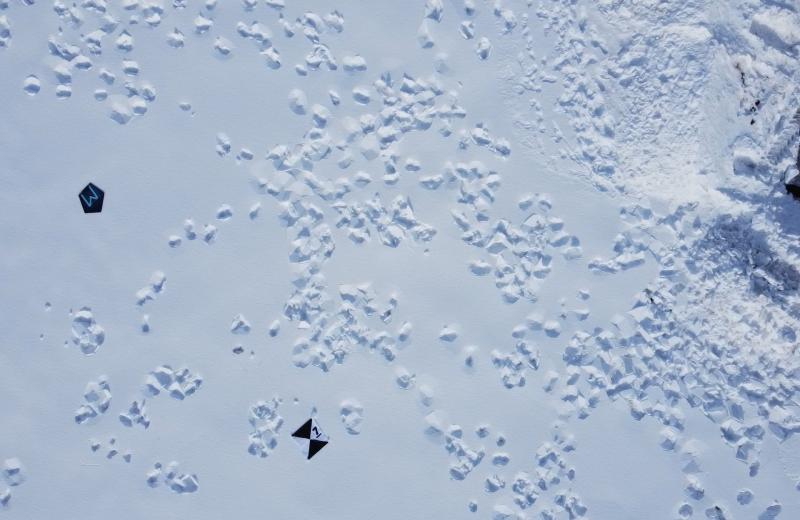Pentagon: (75, 179, 108, 217)
